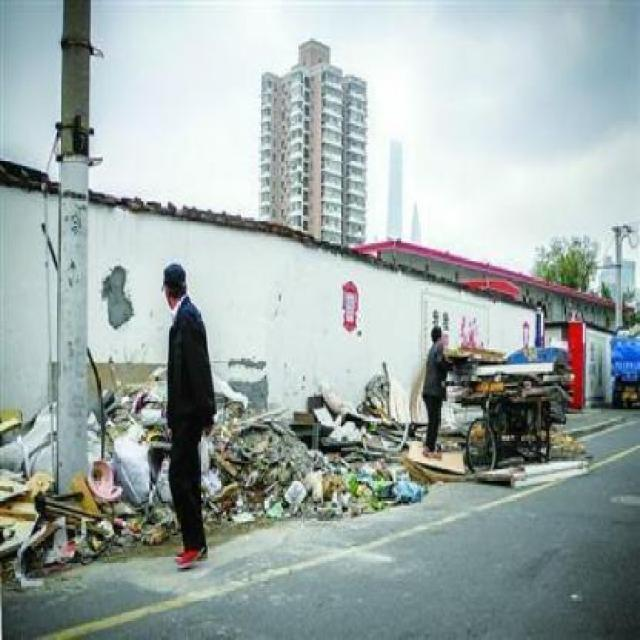garbage: (216, 388, 419, 496), (448, 339, 587, 480), (0, 402, 62, 576), (91, 360, 165, 468), (69, 477, 168, 538)
